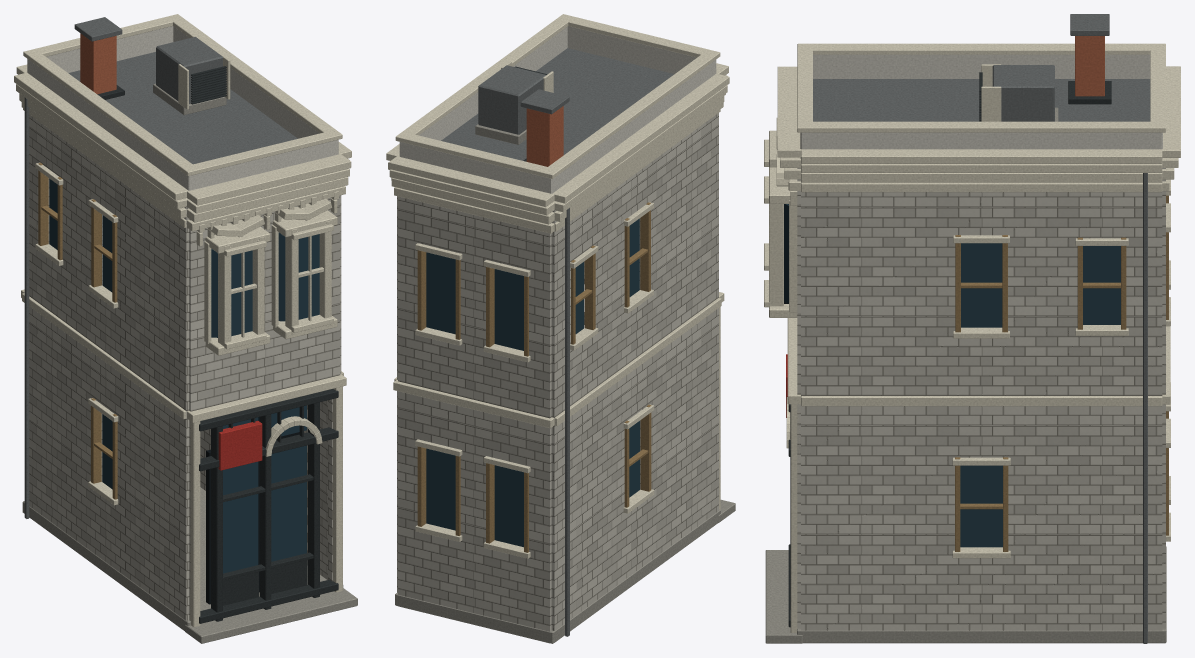
Rendered from BUSS6_lod1.glb.
The picture shows the model from 3 angles, left to right: view 1: azimuth 30°, elevation 25°; view 2: azimuth 150°, elevation 25°; view 3: azimuth 270°, elevation 25°; orthographic projection. The views are drawn at different scales.
Visible parts, largest first — view 1: BUSS6_LOD1; view 2: BUSS6_LOD1; view 3: BUSS6_LOD1.
Boxes of the visible parts, <box> form: BUSS6_LOD1: <box>14,14,357,643</box>; BUSS6_LOD1: <box>386,14,735,643</box>; BUSS6_LOD1: <box>764,14,1180,643</box>.
Bounding box in the file's own units: 3.78 × 10.25 × 6.92.
Materials: 11 (9 with a texture image).
